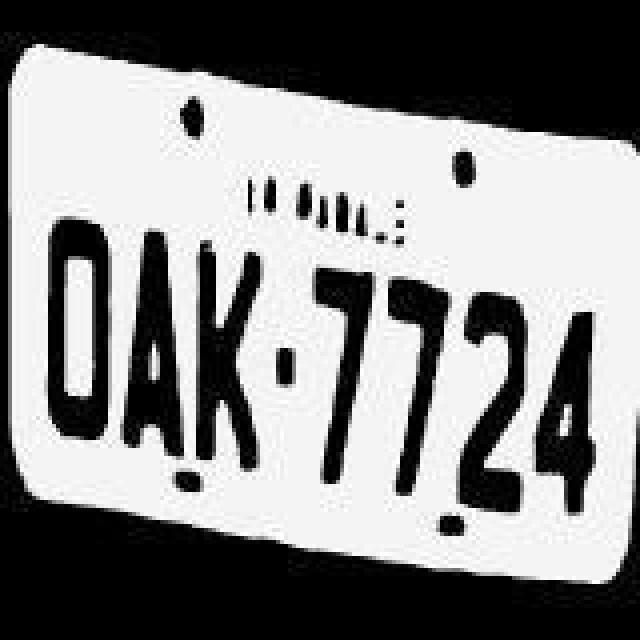2: (454, 276, 530, 516)
4: (532, 294, 612, 522)
7: (300, 262, 380, 506), (382, 274, 458, 510)
A: (116, 208, 188, 464)
K: (186, 224, 270, 480)
O: (34, 200, 118, 456)
